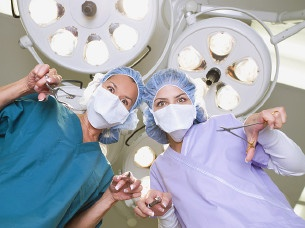Mask: (87, 80, 138, 131)
